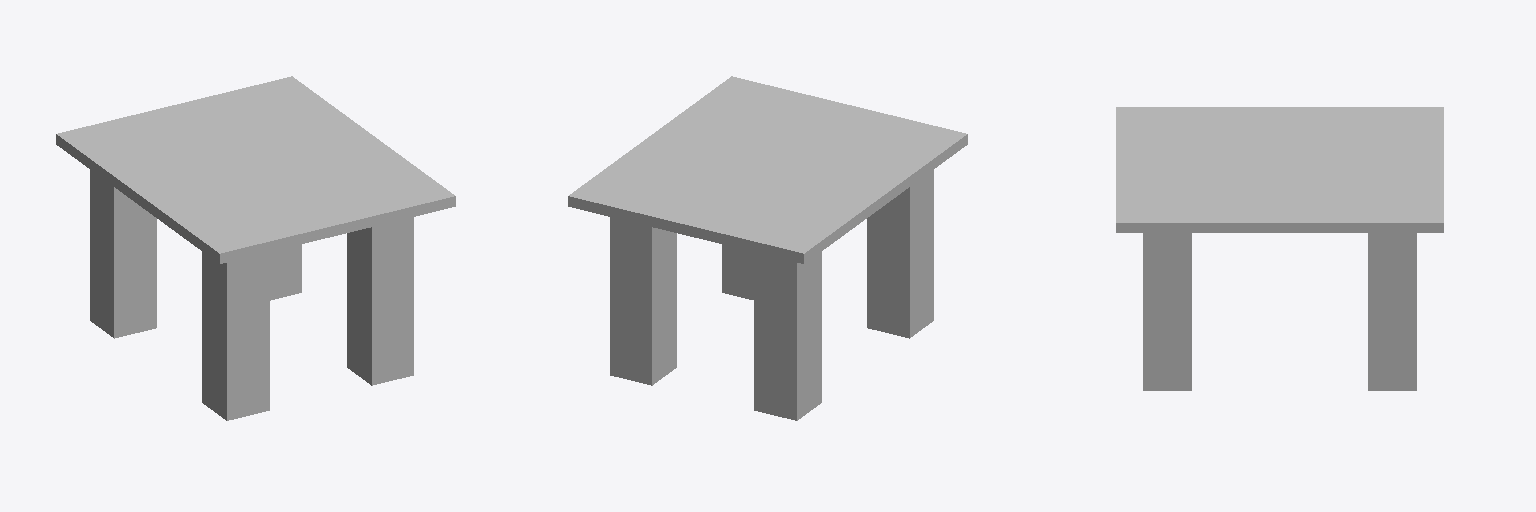
The model's file is small_table.obj.
The picture shows the model from 3 angles: view 1: azimuth 30°, elevation 25°; view 2: azimuth 150°, elevation 25°; view 3: azimuth 270°, elevation 25°; orthographic projection.
Visible parts, largest first — view 1: Box006, Box003, Box002, Box005, Box001; view 2: Box006, Box005, Box001, Box003, Box002; view 3: Box006, Box001, Box002.
Boxes of the visible parts, x1,y1,x2,y2 form: Box006: [56, 76, 455, 263]; Box003: [202, 252, 269, 420]; Box002: [347, 217, 413, 385]; Box005: [90, 170, 156, 338]; Box001: [270, 244, 301, 300]; Box006: [568, 76, 967, 263]; Box005: [754, 252, 821, 420]; Box001: [610, 217, 676, 385]; Box003: [867, 170, 933, 338]; Box002: [722, 244, 753, 299]; Box006: [1116, 107, 1443, 232]; Box001: [1368, 233, 1416, 390]; Box002: [1143, 233, 1191, 390].
Bounding box in the file's own units: 66.51 × 48.97 × 79.81.